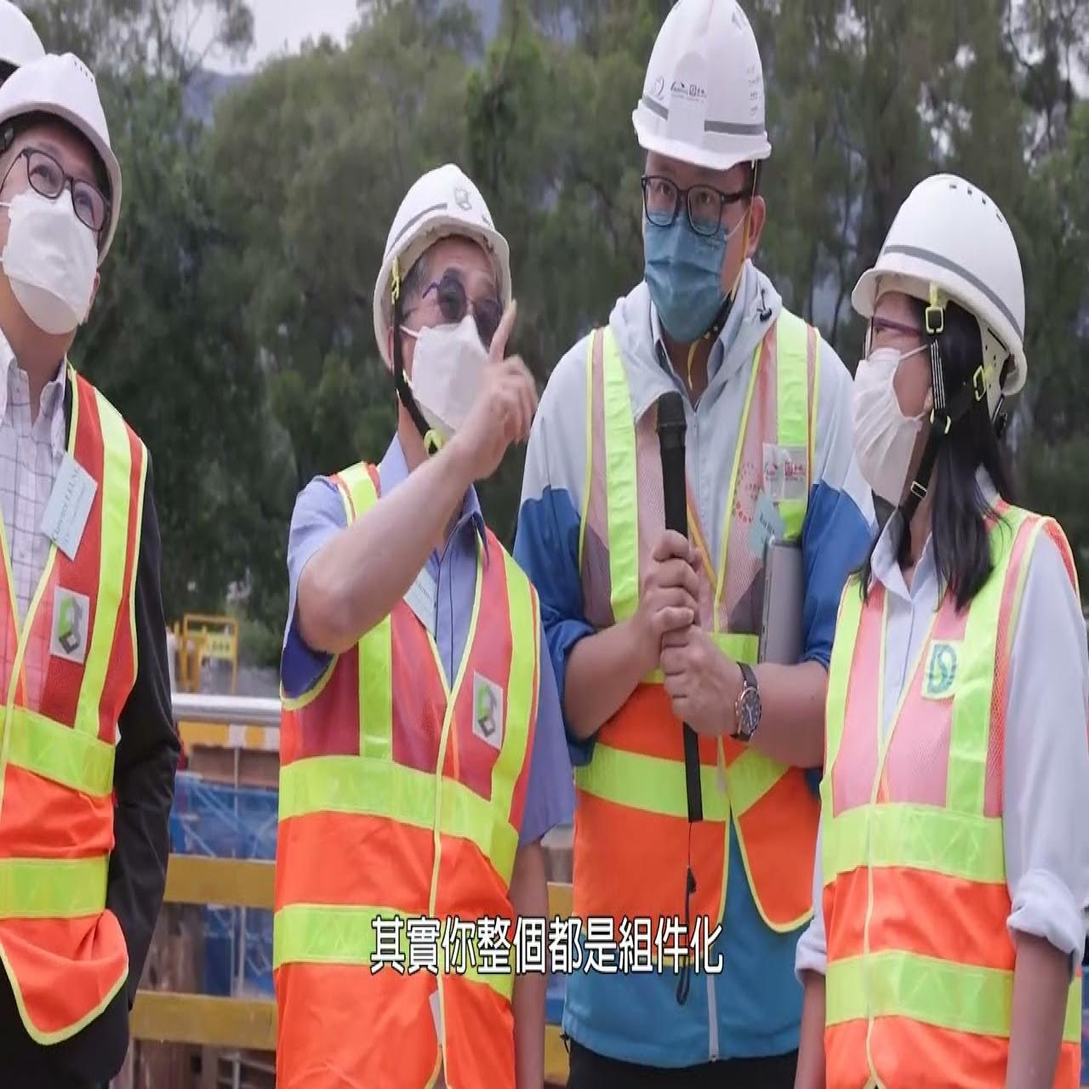Person: (497, 0, 921, 1089), (797, 133, 1089, 1089), (272, 166, 563, 1086), (0, 36, 197, 1087)
Safety_Vest: (564, 308, 818, 980), (277, 458, 542, 1089), (814, 507, 1079, 1083), (1, 362, 147, 1056)
